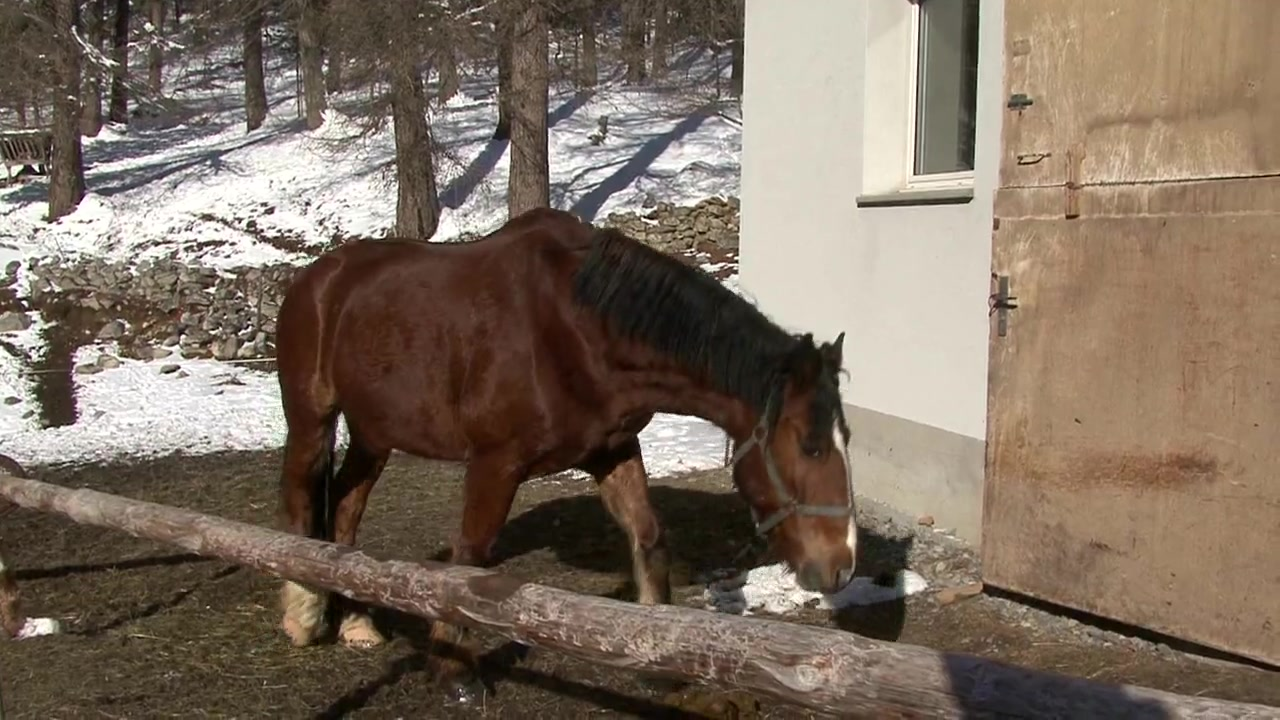horse: (273, 207, 862, 654)
